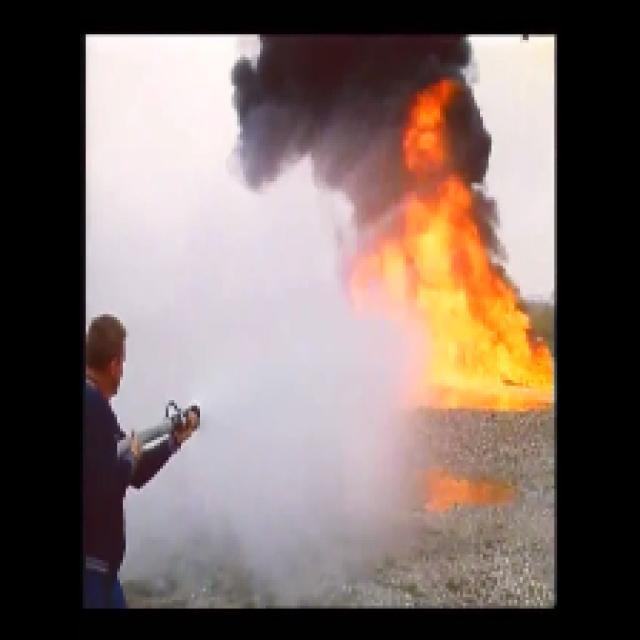Fire: (419, 236, 539, 399), (259, 44, 394, 174)
